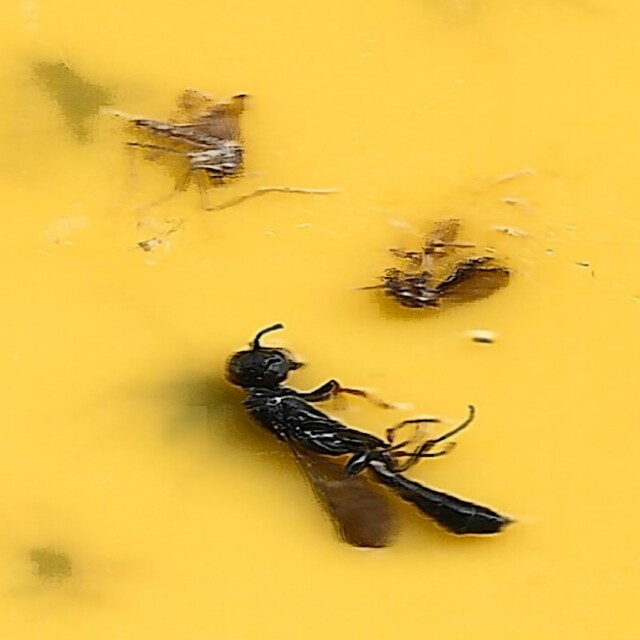Hymenoptera: (224, 322, 517, 550)
Nematocera: (123, 90, 252, 189), (380, 240, 514, 316)
